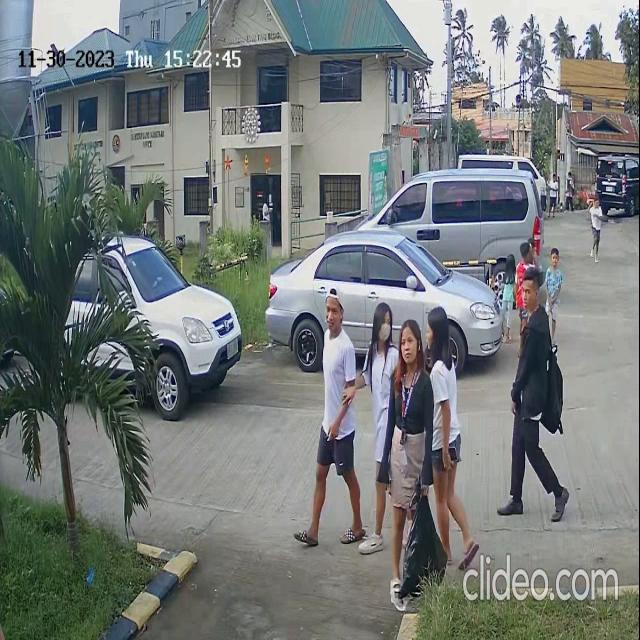garbage: (396, 480, 454, 592)
person: (382, 320, 436, 523), (317, 281, 359, 512), (510, 267, 558, 457), (426, 299, 468, 494), (368, 290, 394, 402), (588, 198, 606, 264)
